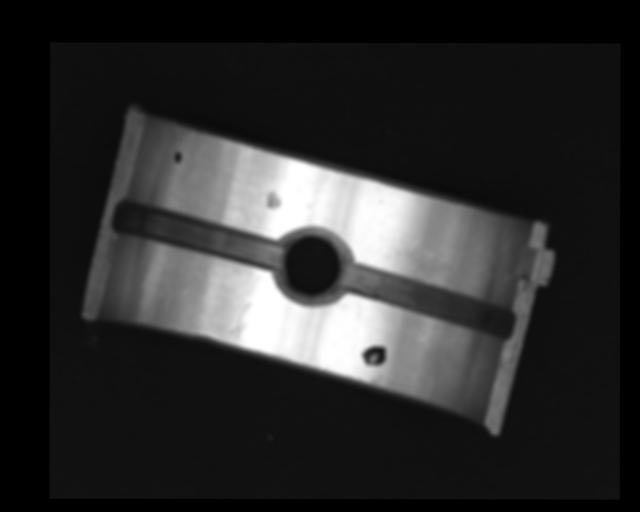blot: (361, 345, 388, 366), (173, 151, 183, 163)
bruise: (266, 188, 280, 210)
gap: (341, 262, 514, 337), (111, 201, 283, 263)
hole: (277, 227, 351, 303)
nick: (229, 301, 252, 344)
scratch: (402, 239, 479, 285)
